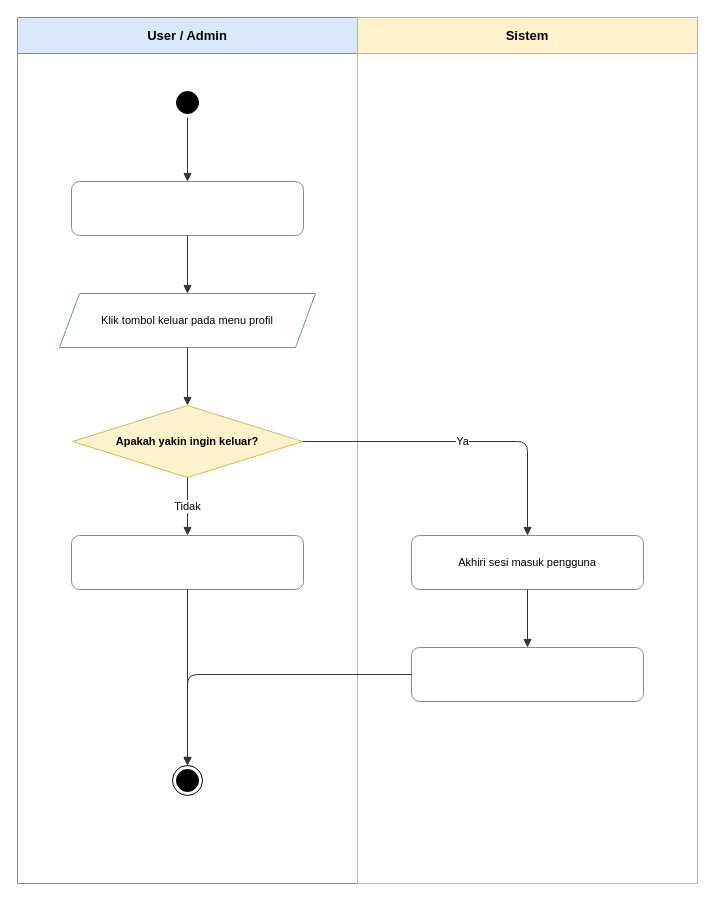
This 715x901 diagram has some shape labels left out. The centre of each missing label's shape, as x and y in pixels:
"Arahkan kembali ke halaman masuk" goes at point (527, 674).
"Berada di halaman aplikasi (sudah masuk)" goes at point (187, 208).
"Tetap berada di halaman saat ini" goes at point (187, 562).
